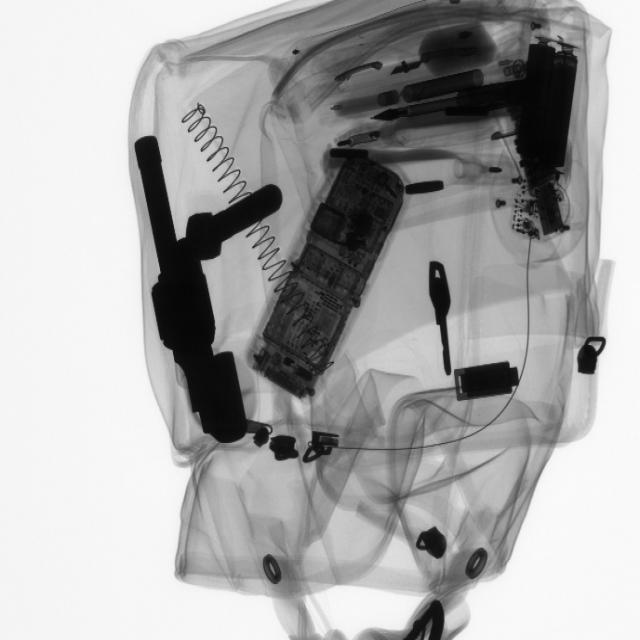GUN: (126, 132, 242, 445)
